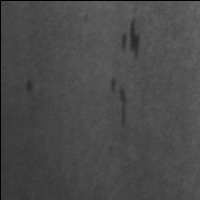inclusion: (108, 75, 134, 129), (118, 14, 143, 61), (21, 74, 37, 98)
